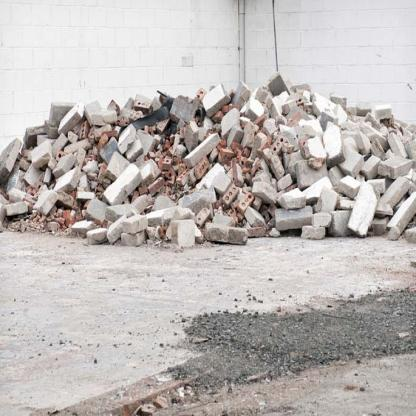brick: (0, 68, 415, 248)
